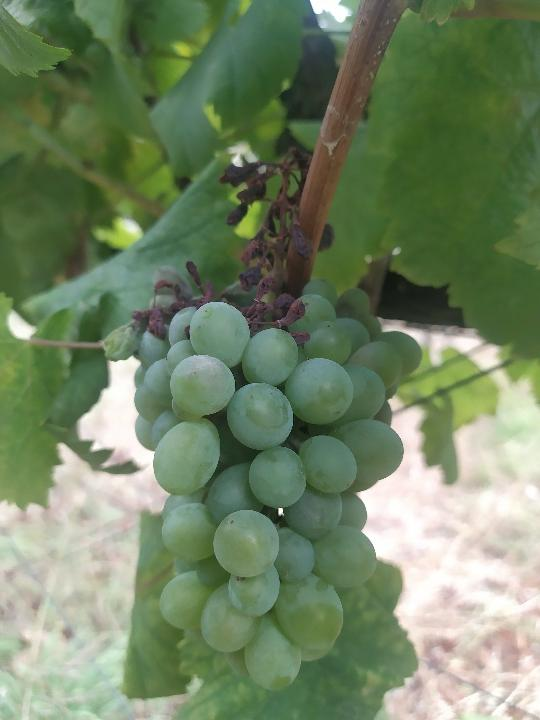grape: (98, 143, 427, 694)
